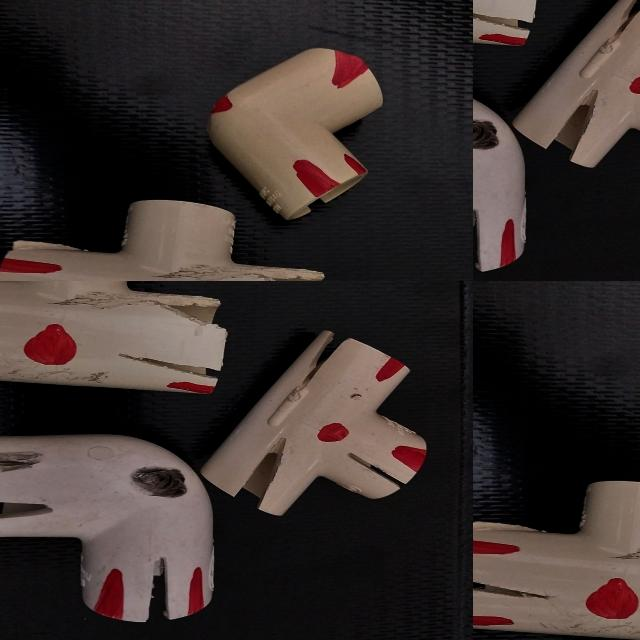Defective: (585, 579, 638, 621), (473, 584, 550, 600), (473, 542, 519, 558), (473, 616, 511, 632), (473, 581, 486, 590)
L Joint: (51, 3, 85, 26), (54, 33, 84, 59), (12, 49, 46, 70), (0, 67, 21, 89)
T Joint: (473, 482, 640, 640), (11, 14, 51, 43)
